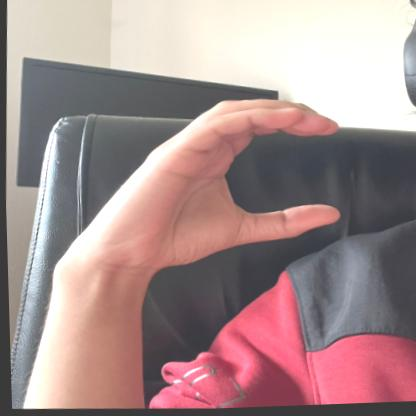C: (103, 90, 350, 284)
